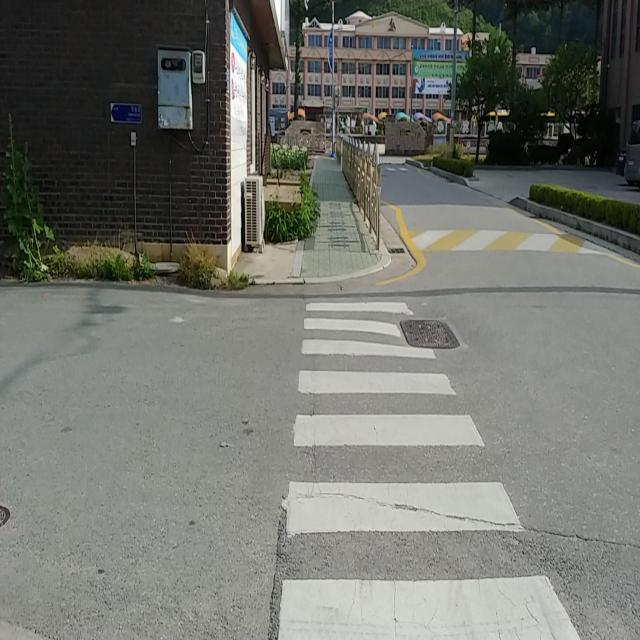횡단보도: (276, 299, 581, 640)
